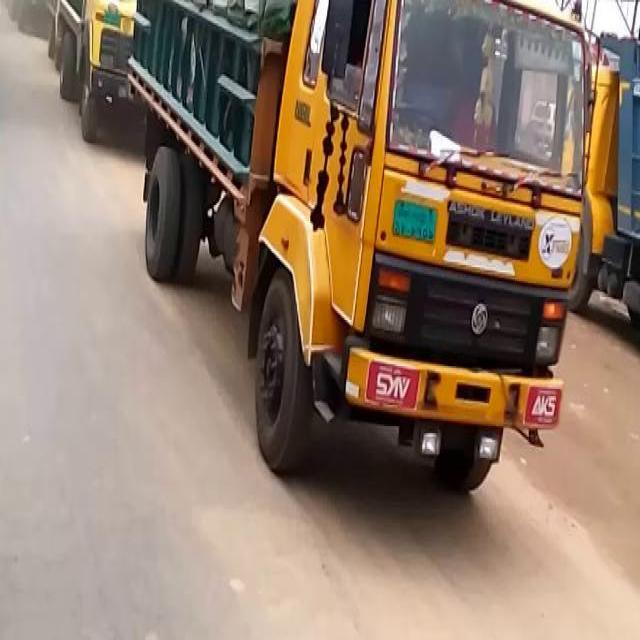truck: (121, 4, 595, 495), (571, 60, 633, 324), (46, 0, 134, 145)
